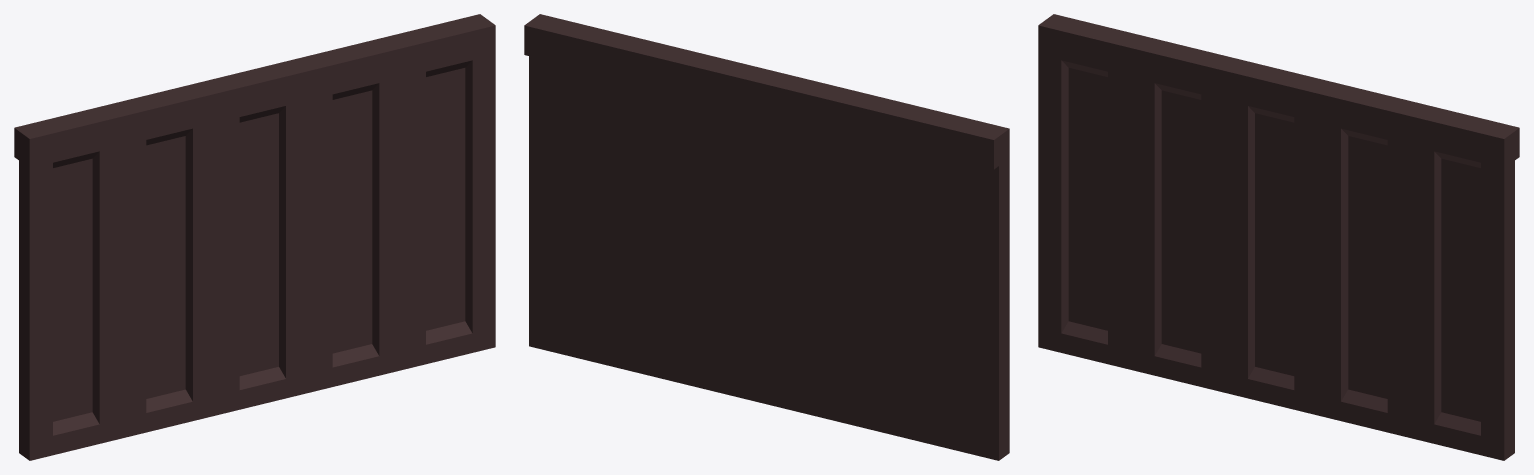
Rendered from SW_ENV_EL_StationWall_5m.fbx.
3 renders of one model, left to right at view 1: azimuth 30°, elevation 25°; view 2: azimuth 150°, elevation 25°; view 3: azimuth 330°, elevation 25°, orthographic.
Visible parts, largest first — view 1: SW_ENV_EL_StationWall_5m; view 2: SW_ENV_EL_StationWall_5m; view 3: SW_ENV_EL_StationWall_5m.
Boxes of the visible parts, left/top/right/bottom form: SW_ENV_EL_StationWall_5m: left=14, top=14, right=495, bottom=460; SW_ENV_EL_StationWall_5m: left=524, top=14, right=1009, bottom=460; SW_ENV_EL_StationWall_5m: left=1038, top=14, right=1519, bottom=460.
Bounding box in the file's own units: 500 × 330 × 29.
